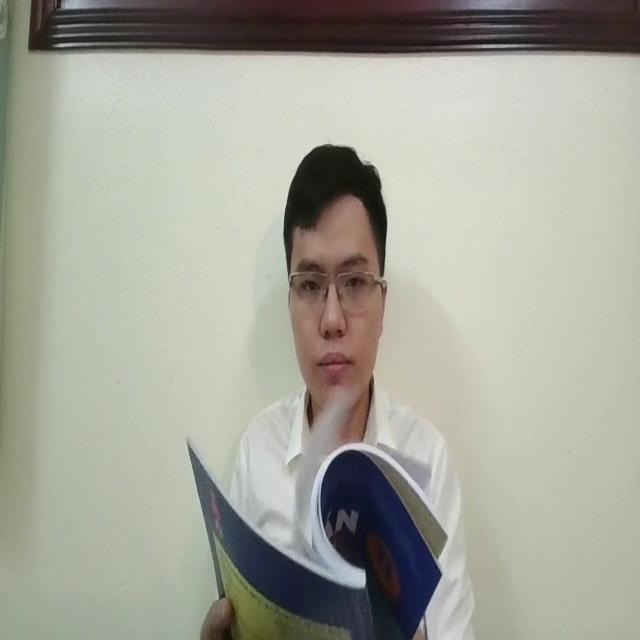book: (190, 432, 396, 624)
student: (237, 163, 465, 640)
